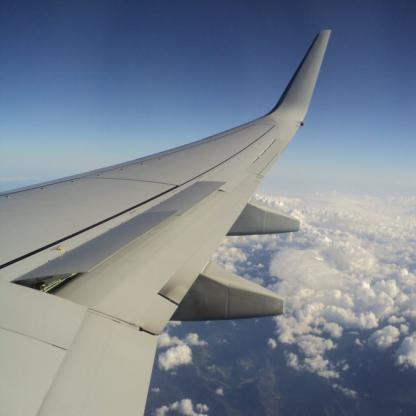CIV_Plane: (6, 20, 336, 412)
